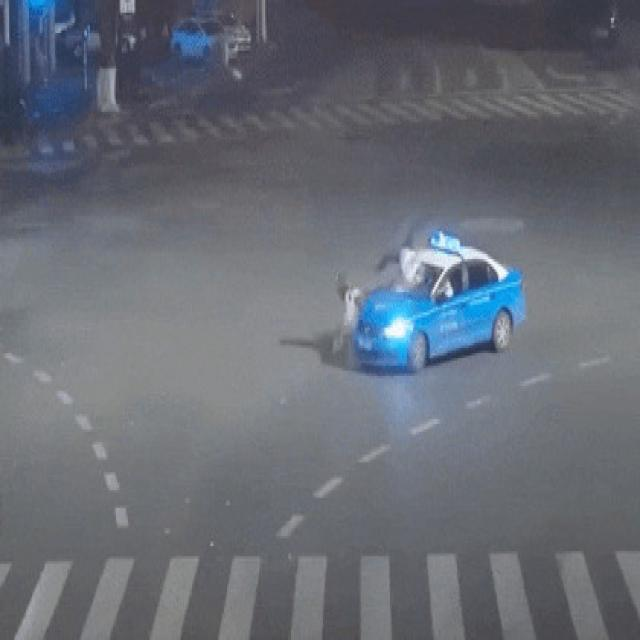multiple_accident: (326, 207, 532, 386)
